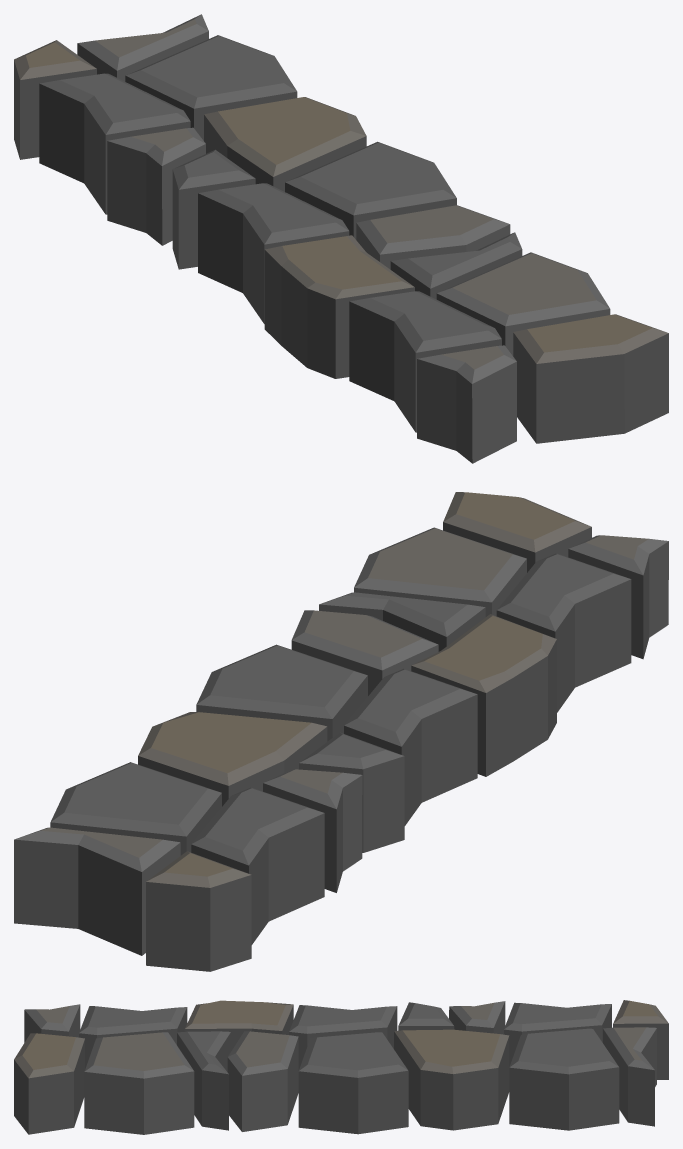
File: road_2.fbx
3 views of the same model, one above another, from view 1: azimuth 30°, elevation 25°; view 2: azimuth 150°, elevation 25°; view 3: azimuth 270°, elevation 25° (orthographic). The views are drawn at different scales.
Parts seen in each view (by area): view 1: Cube.003; view 2: Cube.003; view 3: Cube.003.
Boxes of the visible parts, x1,y1,x2,y2 form: Cube.003: (14,14,668,463); Cube.003: (14,492,668,971); Cube.003: (14,1000,668,1134).
Size of the model in its own units: 163 by 58.8 by 572.
